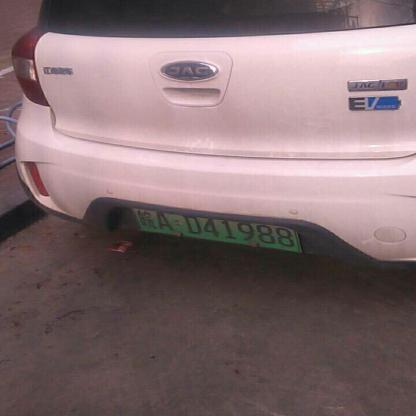lp: (133, 207, 300, 252)
